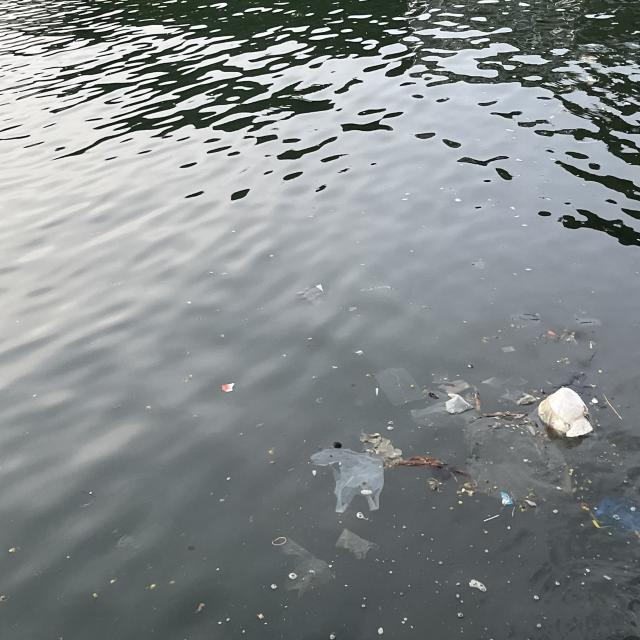foam: (540, 388, 596, 439)
plastic bag: (308, 445, 386, 518)
